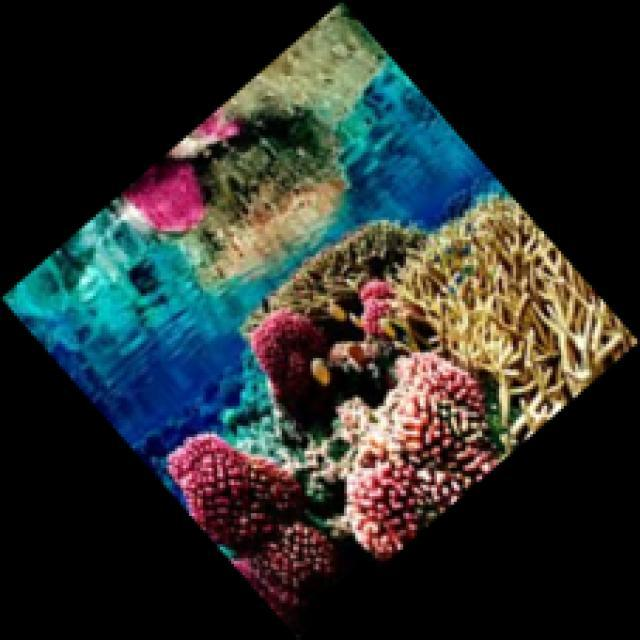Dead Coral: (290, 216, 410, 300)
